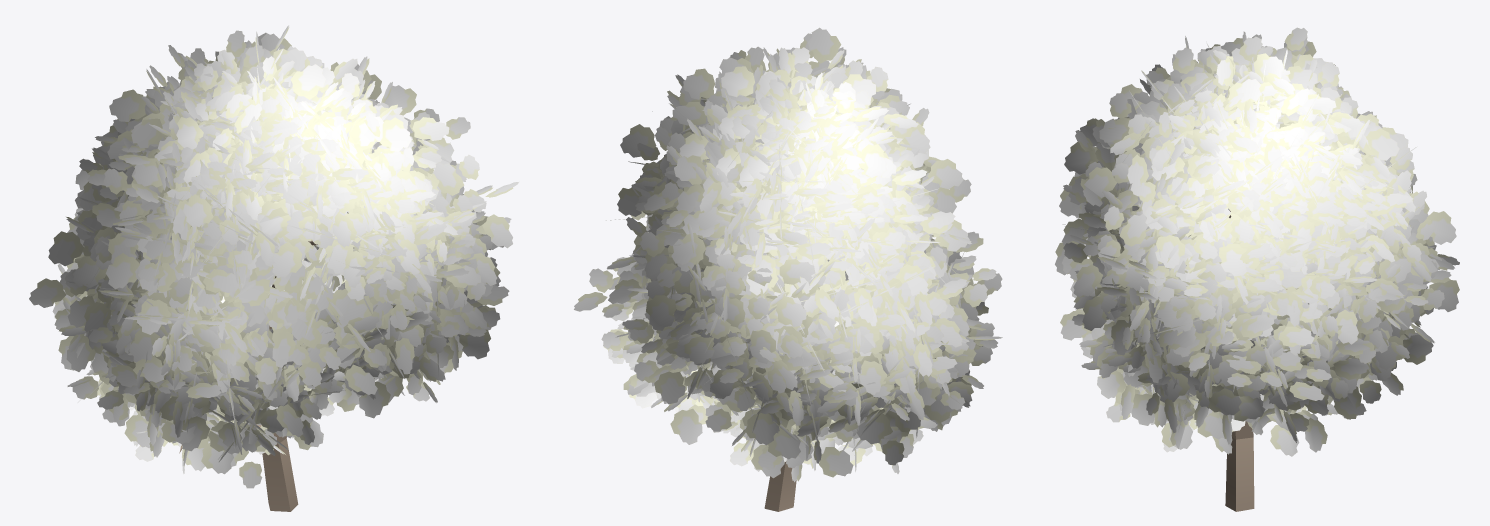
The model's file is fm_bush_frosted.glb.
3 renders of one model, left to right at view 1: azimuth 30°, elevation 25°; view 2: azimuth 150°, elevation 25°; view 3: azimuth 270°, elevation 25°, orthographic. The views are drawn at different scales.
Parts seen in each view (by area): view 1: SM_Env_Bush_01_LOD1; view 2: SM_Env_Bush_01_LOD1; view 3: SM_Env_Bush_01_LOD1.
Part boxes in pixels (box(x1,y1,x2,y2)): SM_Env_Bush_01_LOD1: box(29, 25, 518, 511); SM_Env_Bush_01_LOD1: box(574, 27, 1002, 511); SM_Env_Bush_01_LOD1: box(1055, 27, 1459, 511).
Size of the model in its own units: 1.75 by 1.91 by 1.61.
2 materials, 2 textured.
